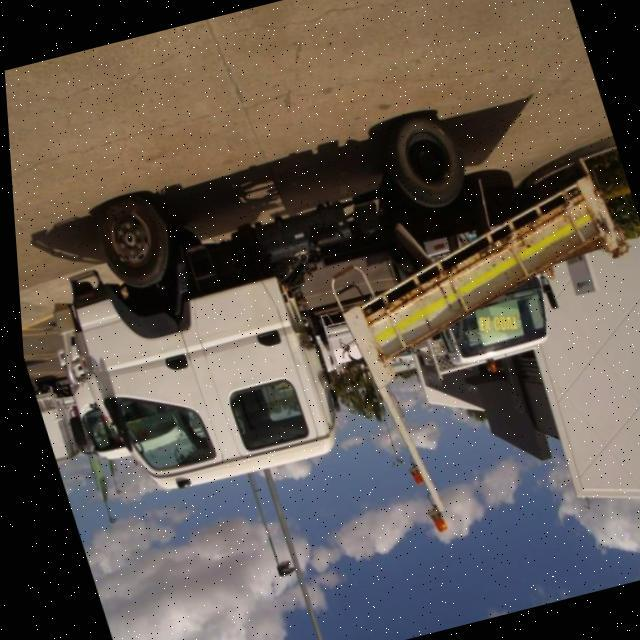truck: (4, 74, 640, 609)
